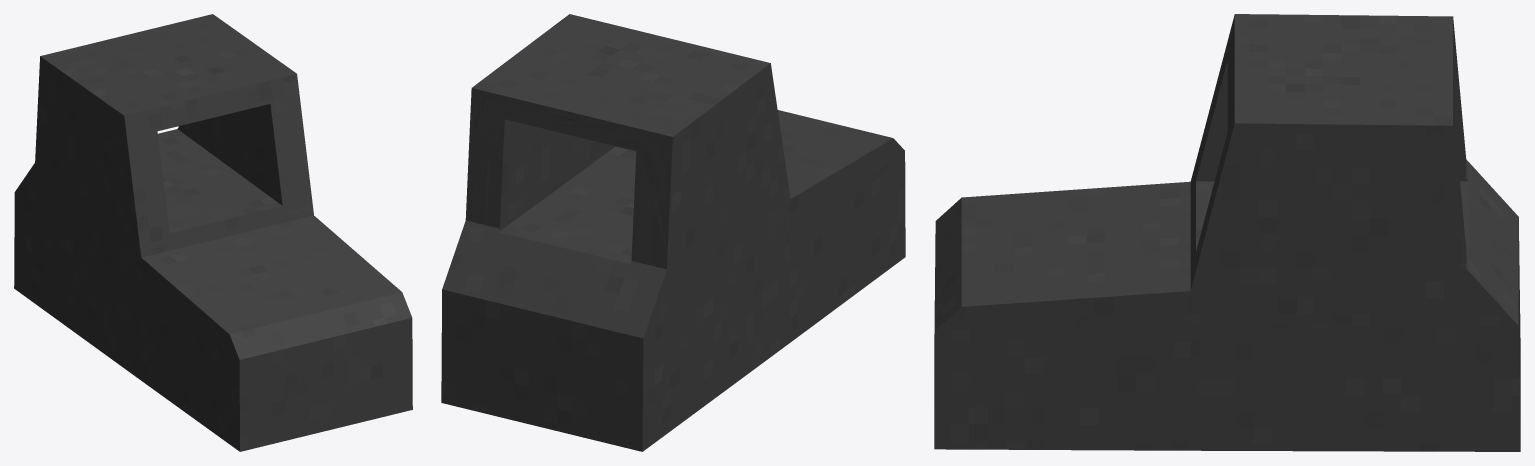
File: holographic.obj
The picture shows the model from 3 angles, left to right: view 1: azimuth 30°, elevation 25°; view 2: azimuth 150°, elevation 25°; view 3: azimuth 270°, elevation 25°; orthographic projection. The views are drawn at different scales.
Parts seen in each view (by area): view 1: Cube_Cube.001; view 2: Cube_Cube.001; view 3: Cube_Cube.001.
Part boxes in pixels (x1,y1,x2,y2): Cube_Cube.001: (14, 14, 412, 451); Cube_Cube.001: (441, 14, 905, 451); Cube_Cube.001: (934, 14, 1520, 451).
Size of the model in its own units: 2 by 2.8 by 4.53.
